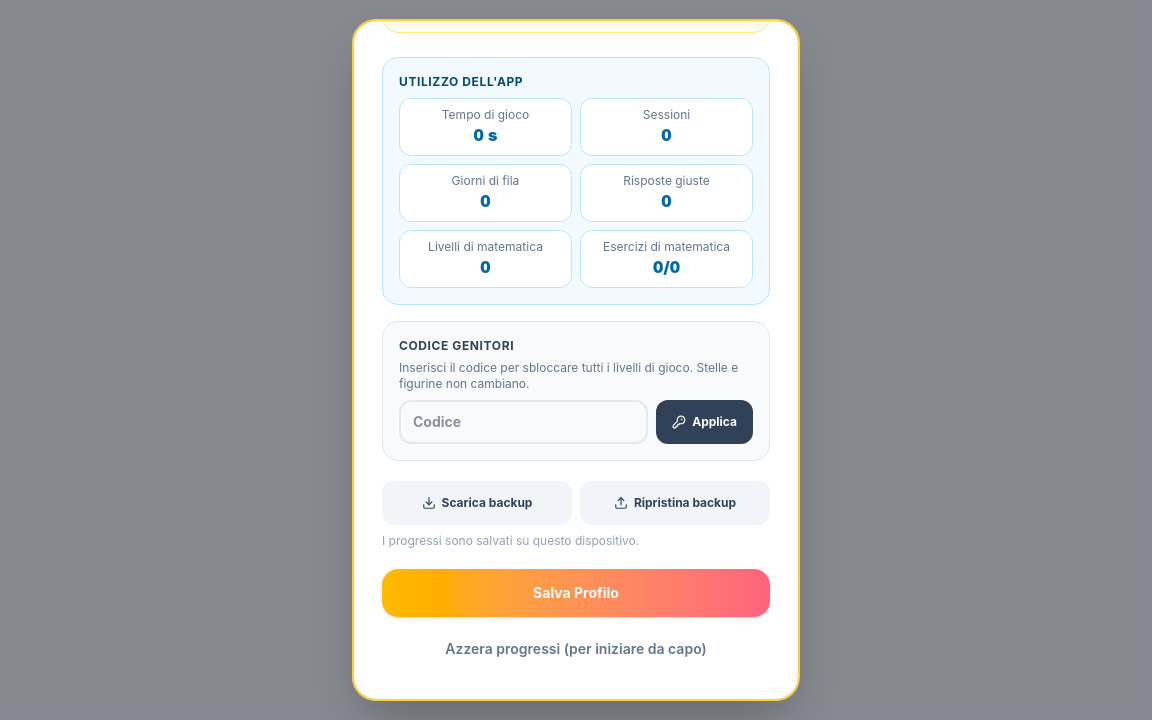
Test: ProfileModal - parents area › sends the parent code and reports the outcome
(page scrolled)
In the field labelled "Codice genitori": (524, 422) [399, 400, 648, 444], type "abc"
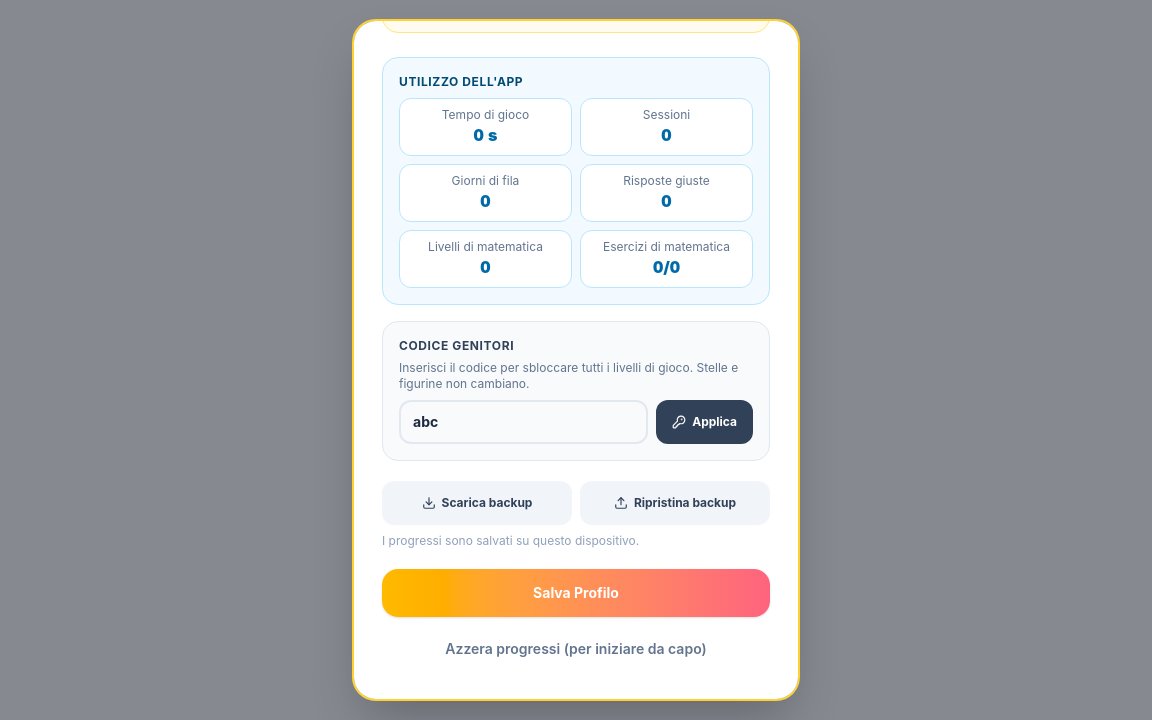
Click the button "Applica": (705, 422) [656, 400, 753, 444]
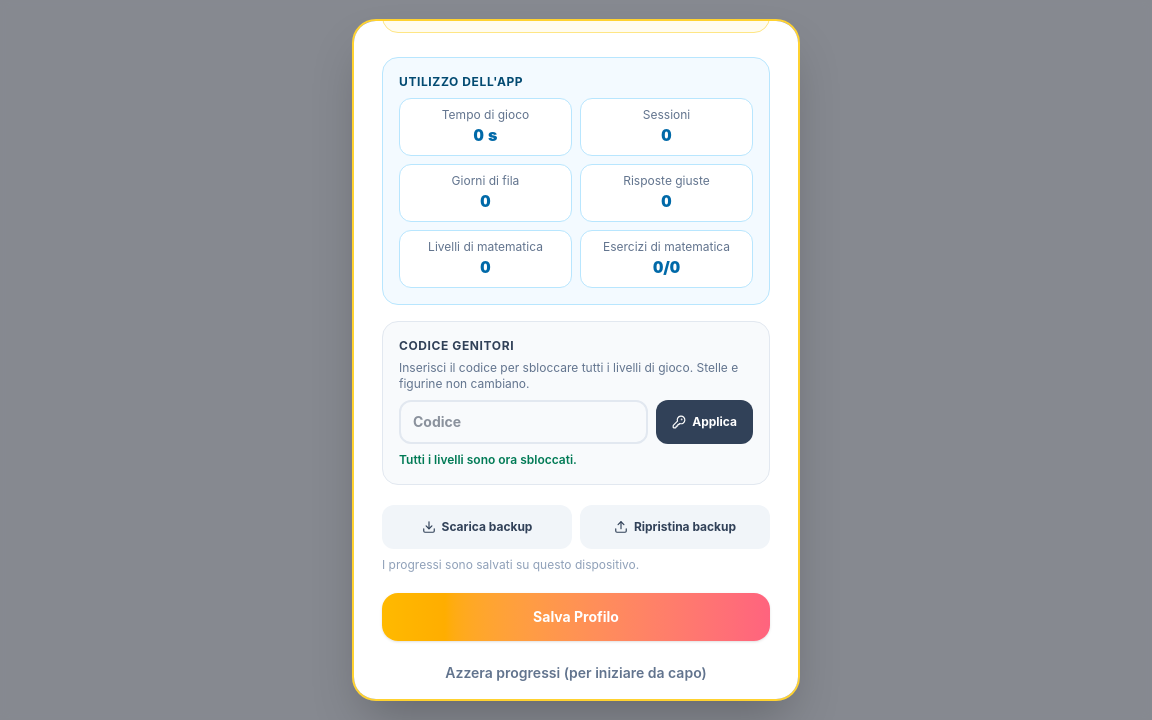
Now the message shows "Tutti i livelli sono ora sbloccati", box [399, 452, 577, 467]
In the field labelled "Codice genitori": (524, 422) [399, 400, 648, 444], type "def"
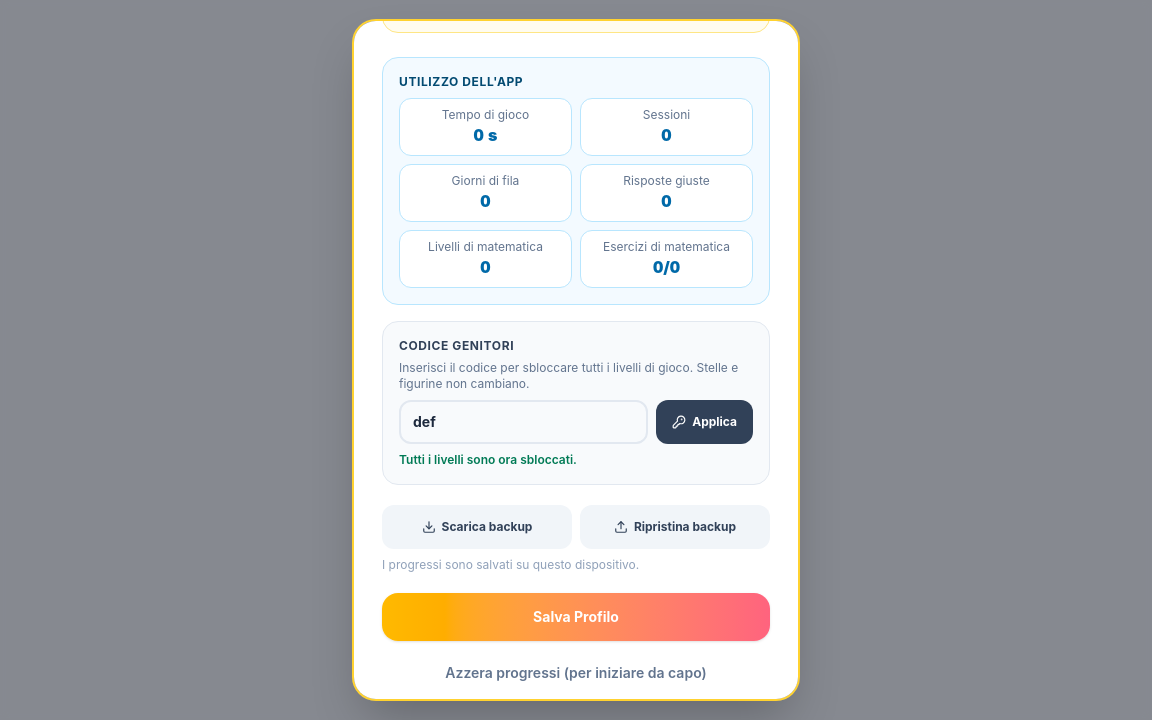
Click the button "Applica": (705, 422) [656, 400, 753, 444]
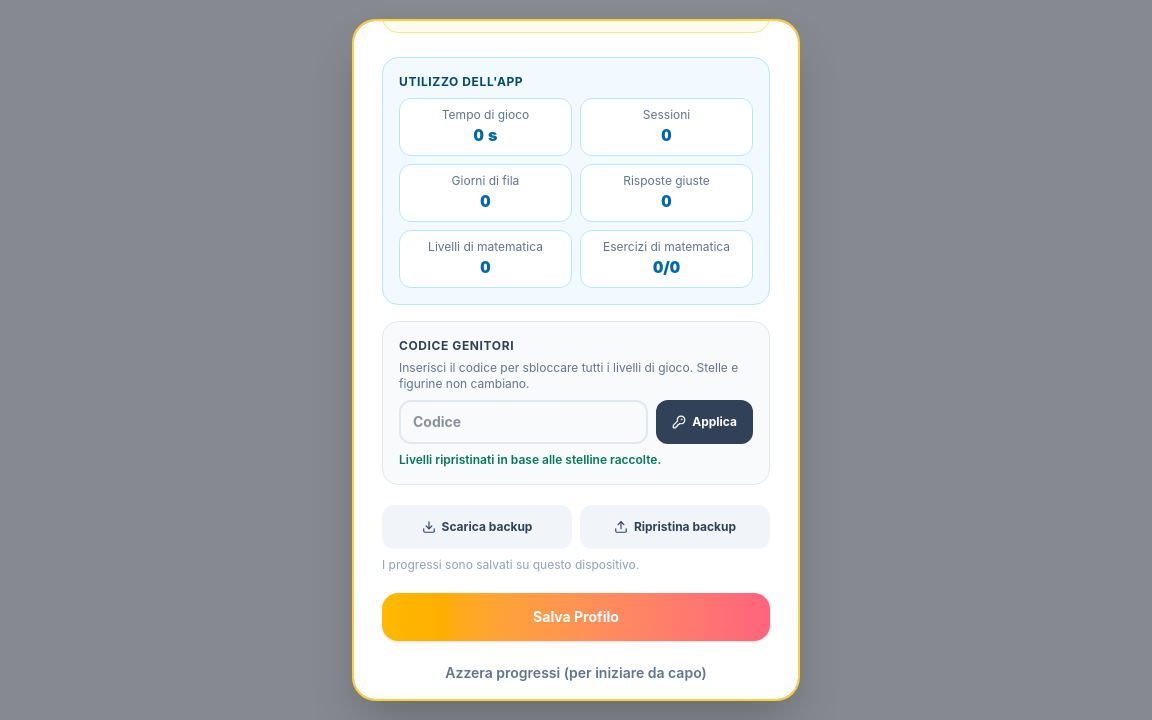
Now the message shows "Livelli ripristinati", box [399, 452, 661, 467]
In the field labelled "Codice genitori": (524, 422) [399, 400, 648, 444], type "zzz"
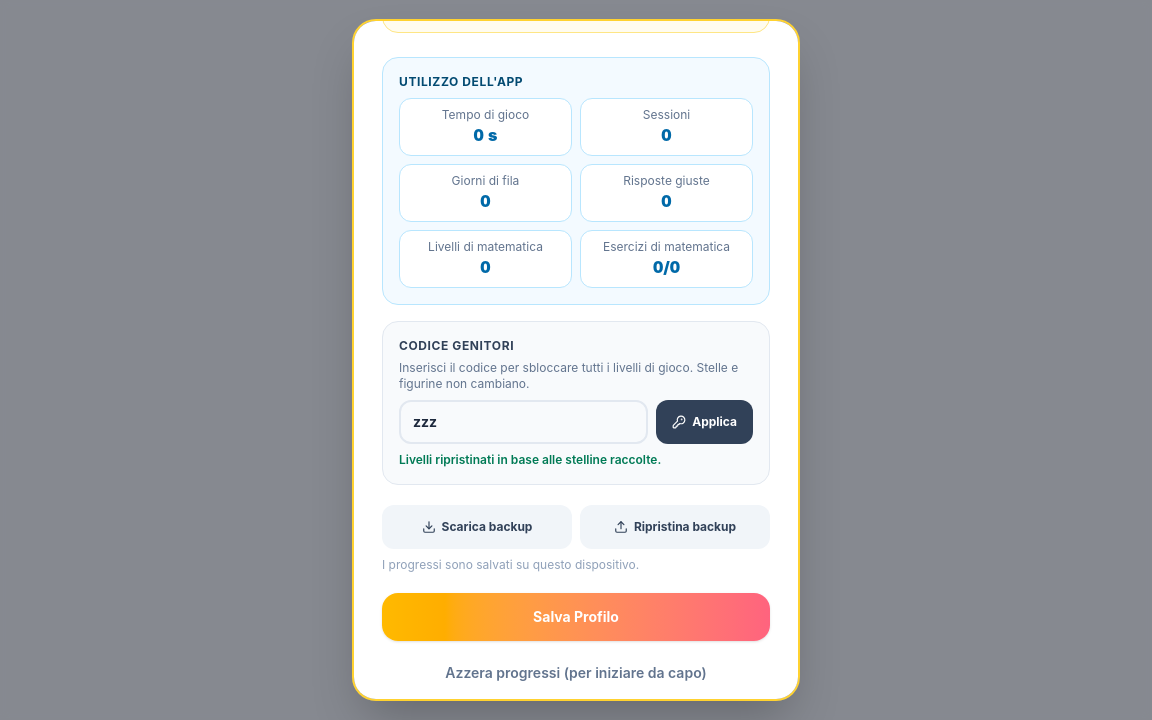
Click the button "Applica": (705, 422) [656, 400, 753, 444]
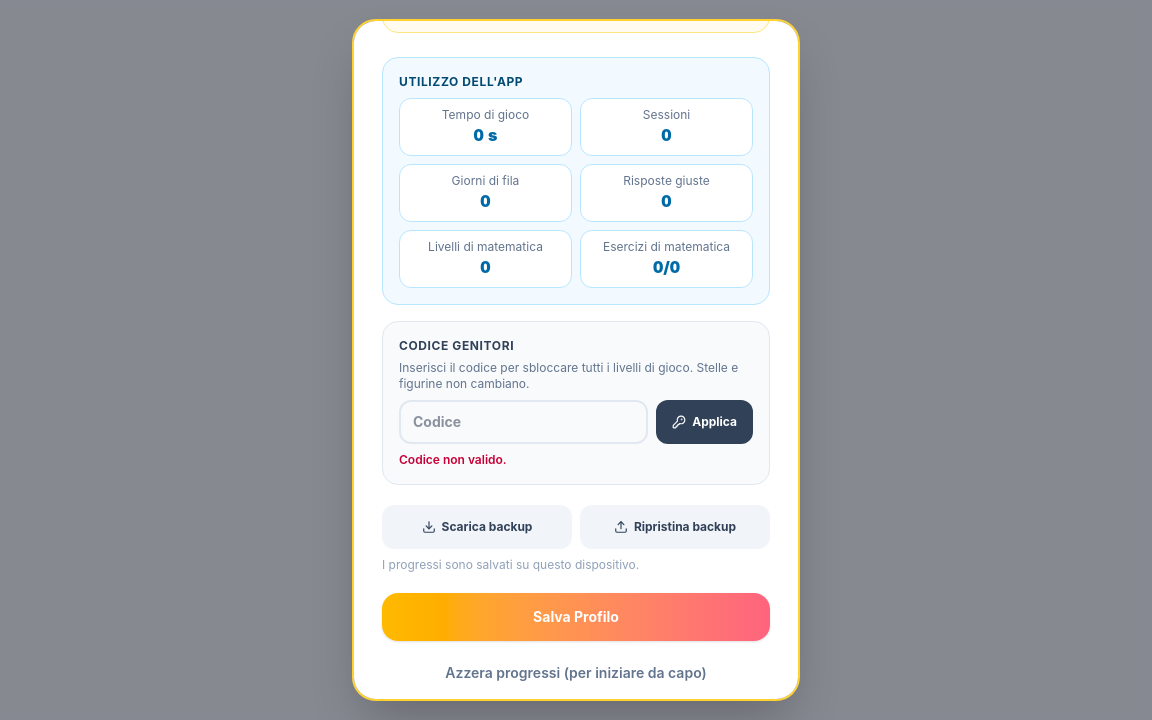
Now the message shows "Codice non valido", box [399, 452, 507, 467]
